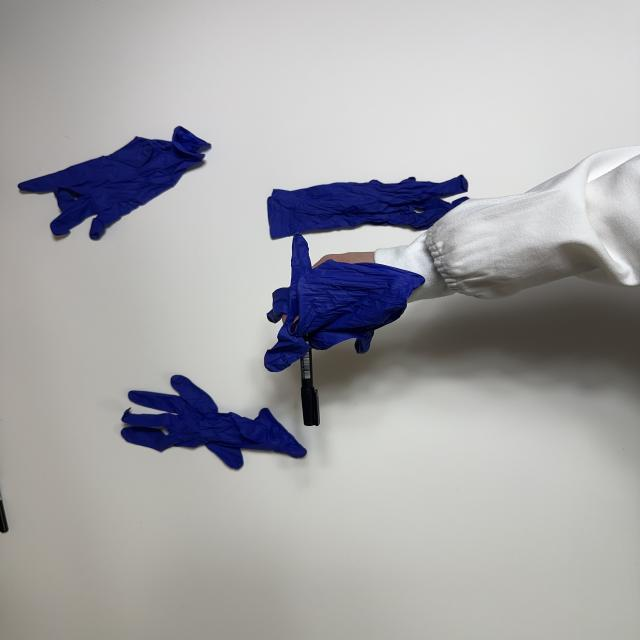glove_not_fitted: (262, 230, 428, 373)
